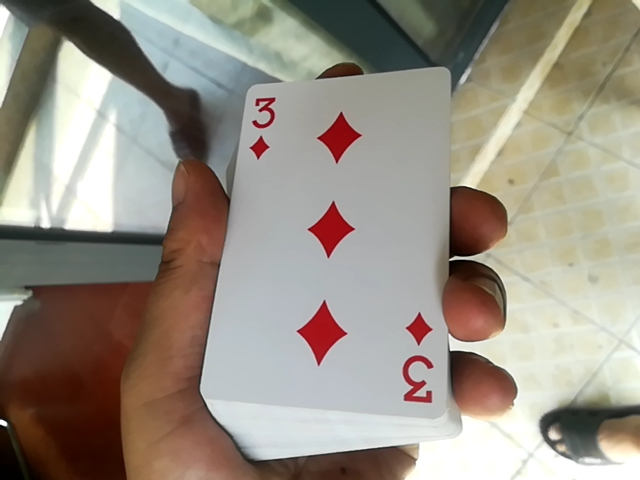fk 3: (202, 62, 448, 439)
